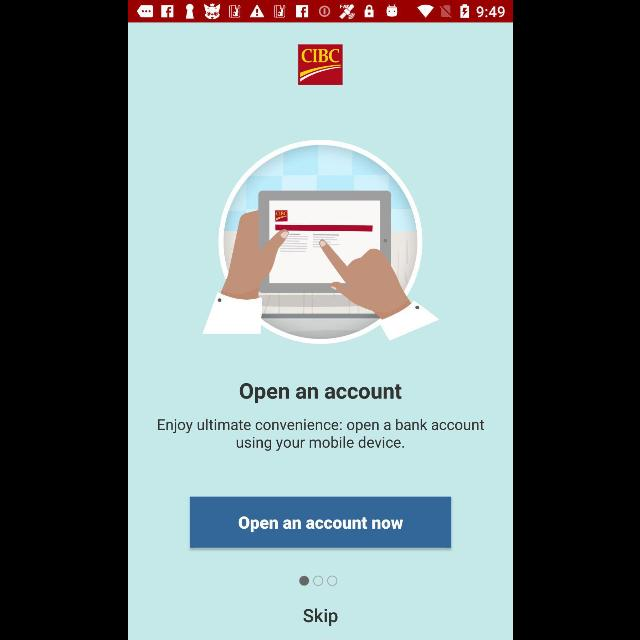image: (201, 139, 439, 345), (298, 44, 342, 86)
pageindicator: (298, 576, 338, 586)
text: (156, 418, 484, 452), (238, 382, 402, 403), (302, 608, 338, 626)
textbutton: (189, 497, 451, 548)
uppertaskbar: (128, 1, 512, 23)
